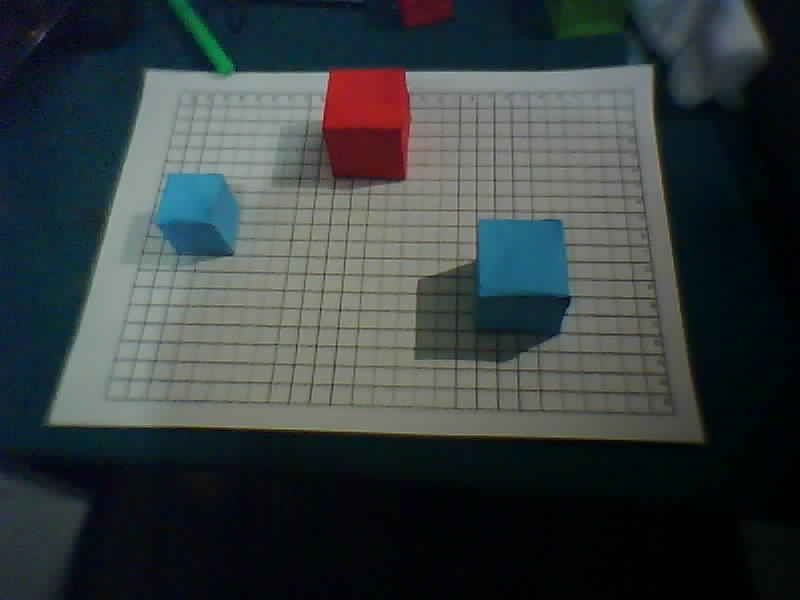blue(3x3x3): (141, 160, 248, 267)
blue(4x4x4): (464, 202, 597, 357)
red(4x4x4): (306, 60, 425, 187)
